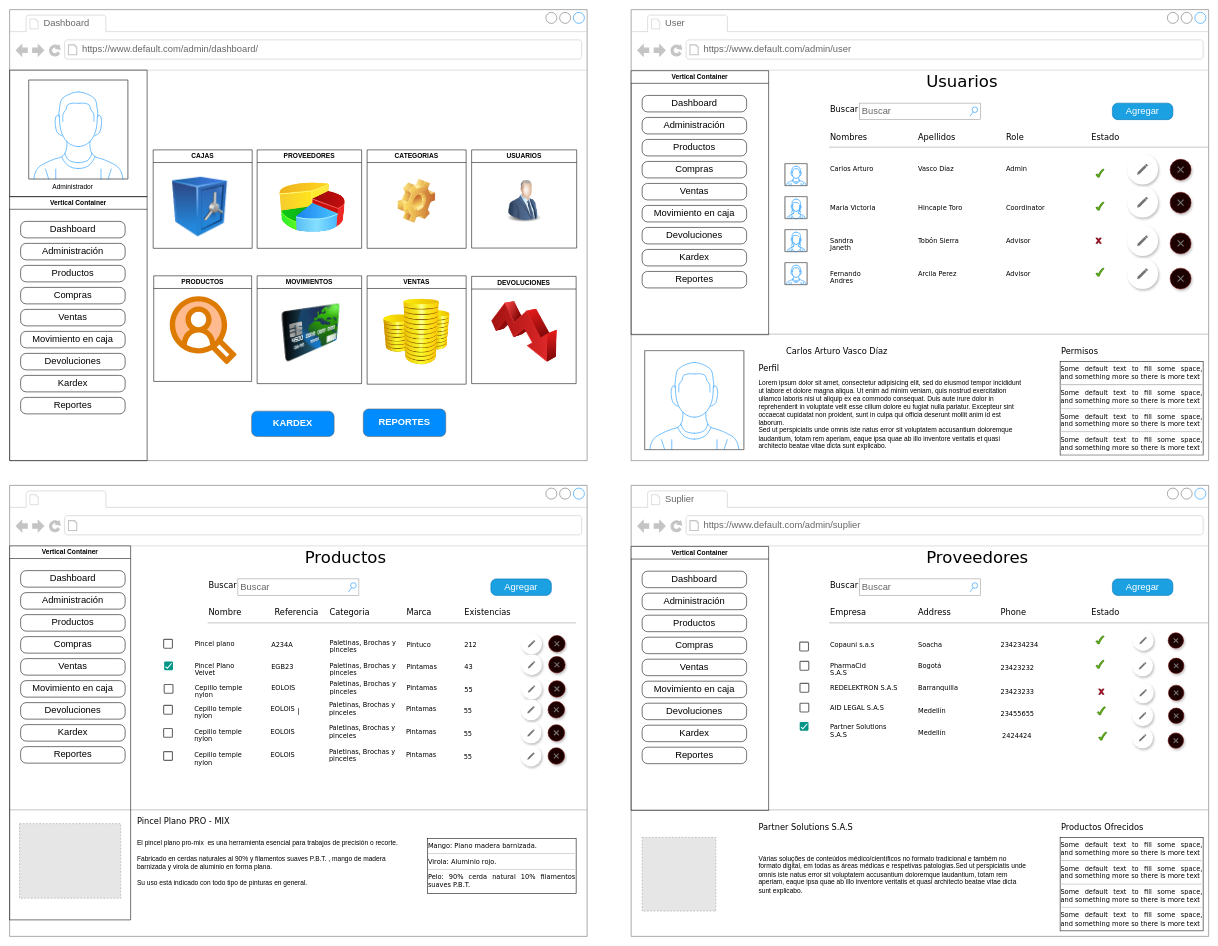
The diagram is 1218 pixels wide and 946 high, and some of its shapes have lost their labels. Grey dashed boxes stand in for pictures. The shapes that lost their labels are listed below. From the top down, each one's centre as x and y in pixels, then its label:
point 72,498: products
point 150,525: https://www.default.com/admin/product
